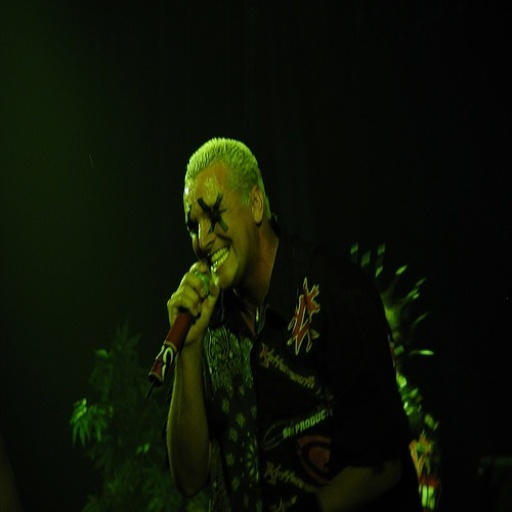hand: (165, 258, 219, 344)
